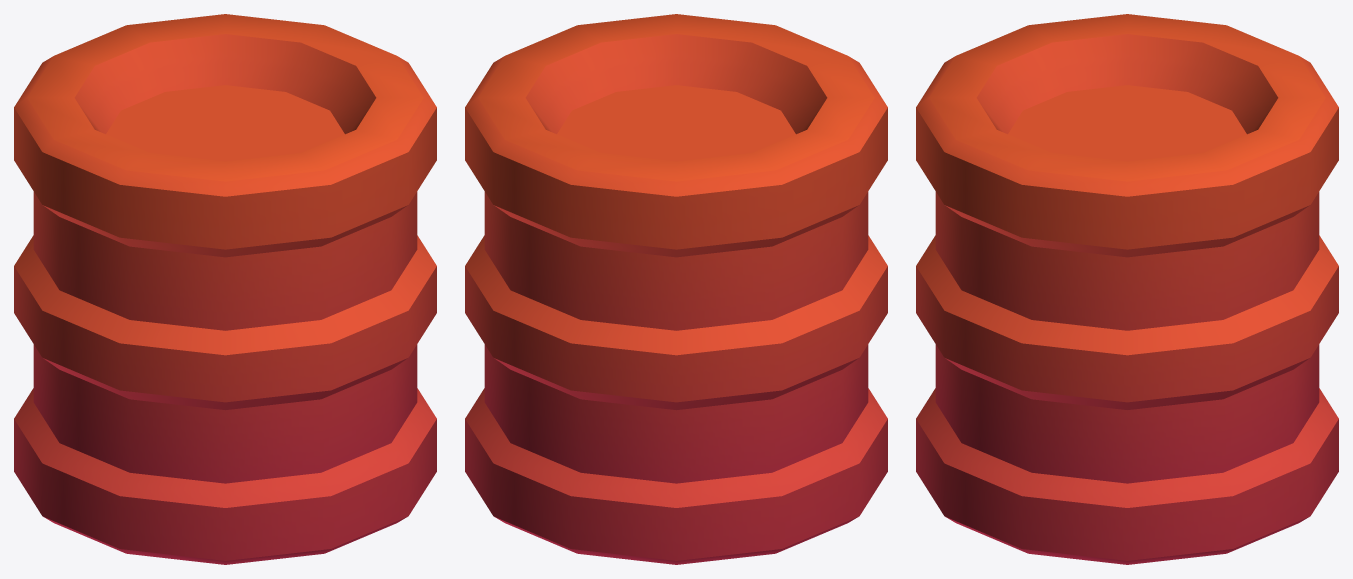
The model's file is kaykit-proto-Barrel_A.glb.
3 renders of one model, left to right at view 1: azimuth 30°, elevation 25°; view 2: azimuth 150°, elevation 25°; view 3: azimuth 270°, elevation 25°, orthographic.
Visible parts, largest first — view 1: Barrel_A; view 2: Barrel_A; view 3: Barrel_A.
Part boxes in pixels (box(x1,y1,x2,y2)): Barrel_A: box(14, 14, 436, 564); Barrel_A: box(465, 14, 887, 564); Barrel_A: box(916, 14, 1338, 564).
Bounding box in the file's own units: 1 × 1 × 1.
1 material, 1 textured.
